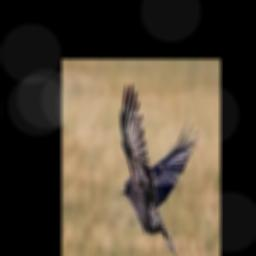Crow: (120, 82, 199, 254)
